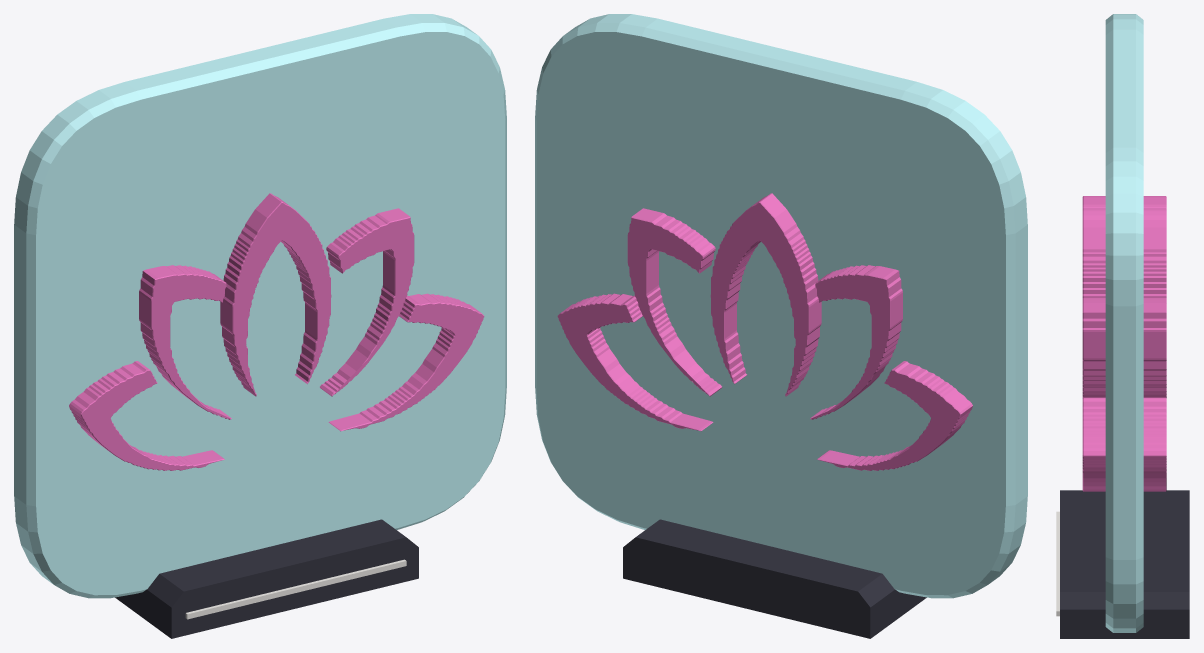
The model's file is 009-zenz.glb.
3 views of the same model, side by side, from view 1: azimuth 30°, elevation 25°; view 2: azimuth 150°, elevation 25°; view 3: azimuth 270°, elevation 25° (orthographic). The views are drawn at different scales.
Visible parts, largest first — view 1: zenz-app-tile, 009-lotus, foot-block, foot-keyline; view 2: zenz-app-tile, 009-lotus-back, foot-block; view 3: zenz-app-tile, foot-block, 009-lotus-back, 009-lotus, foot-keyline.
Boxes of the visible parts, x1,y1,x2,y2 form: zenz-app-tile: (14,14,506,598); 009-lotus: (69,193,484,470); foot-block: (115,519,418,638); foot-keyline: (185,559,406,619); zenz-app-tile: (535,14,1027,598); 009-lotus-back: (557,193,972,470); foot-block: (623,519,926,638); zenz-app-tile: (1105,14,1143,632); foot-block: (1060,490,1189,638); 009-lotus-back: (1143,196,1166,491); 009-lotus: (1082,196,1105,491); foot-keyline: (1056,511,1059,616).
Bounding box in the file's own units: 1.36 × 1.43 × 0.349.
